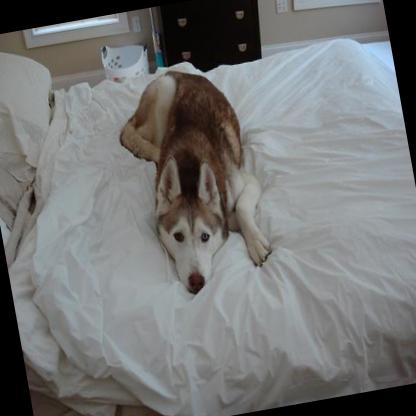Siberian_husky: (107, 58, 276, 300)
